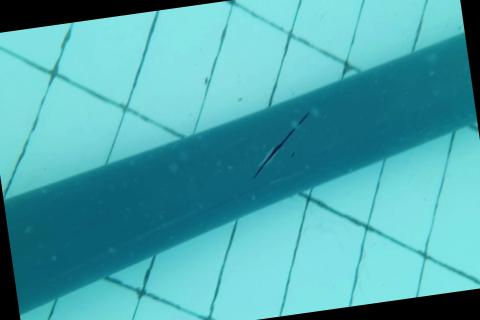keretakan: (245, 109, 319, 178)
